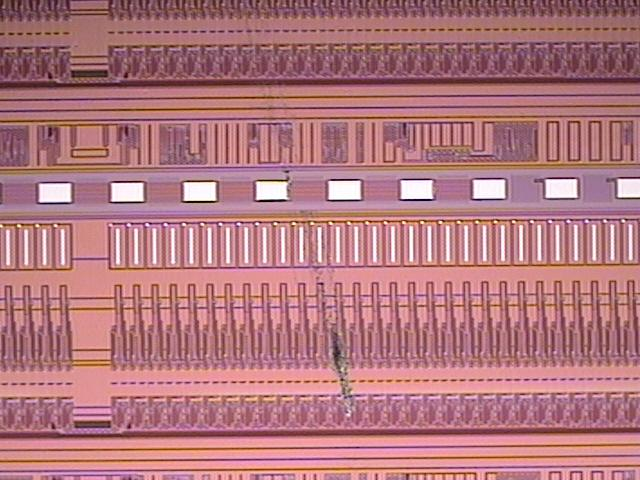SCRATCH: (234, 1, 370, 430)
